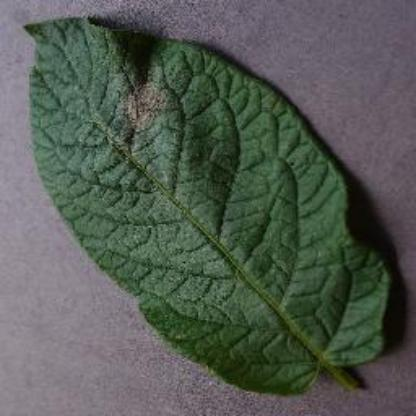Late-Blight: (16, 7, 410, 400)
